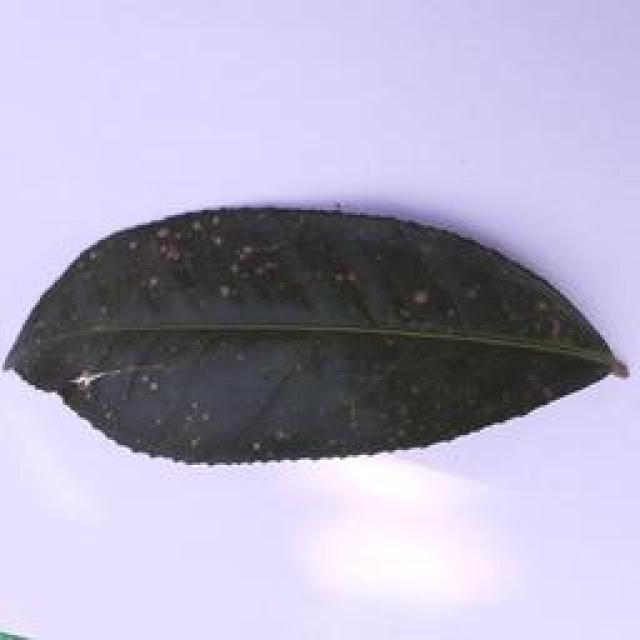Algal Leaf Spot: (2, 193, 636, 482)
